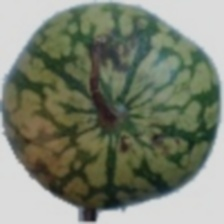watermelon: (31, 13, 216, 207)
